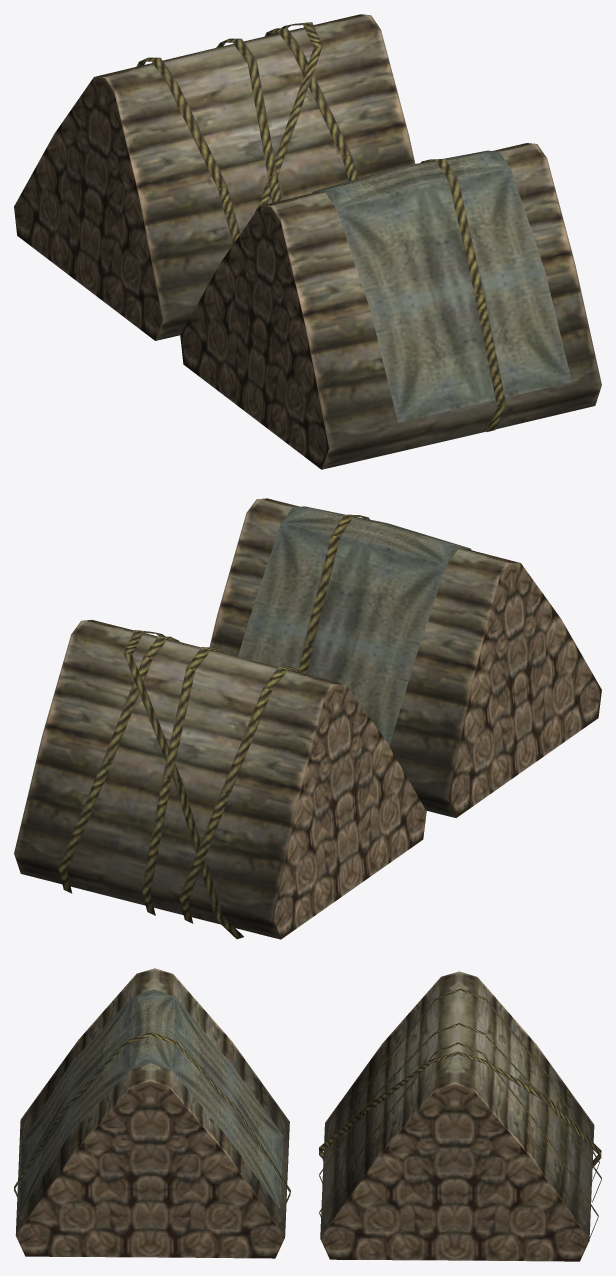
File: mucaidui_tyc_20.FBX
3 views of the same model, one above another, from view 1: azimuth 30°, elevation 25°; view 2: azimuth 150°, elevation 25°; view 3: azimuth 270°, elevation 25° (orthographic). The views are drawn at different scales.
Parts seen in each view (by area): view 1: mucaidui_tyc_01, mucaidui_tyc_02; view 2: mucaidui_tyc_02, mucaidui_tyc_01; view 3: mucaidui_tyc_02, mucaidui_tyc_01.
Boxes of the visible parts, x1,y1,x2,y2 form: mucaidui_tyc_01: [180, 143, 601, 469]; mucaidui_tyc_02: [14, 14, 415, 340]; mucaidui_tyc_02: [14, 620, 426, 939]; mucaidui_tyc_01: [209, 498, 601, 817]; mucaidui_tyc_02: [319, 971, 601, 1261]; mucaidui_tyc_01: [14, 968, 290, 1258].
Size of what is drawn, in the model's own units: 103 by 74.3 by 205.
